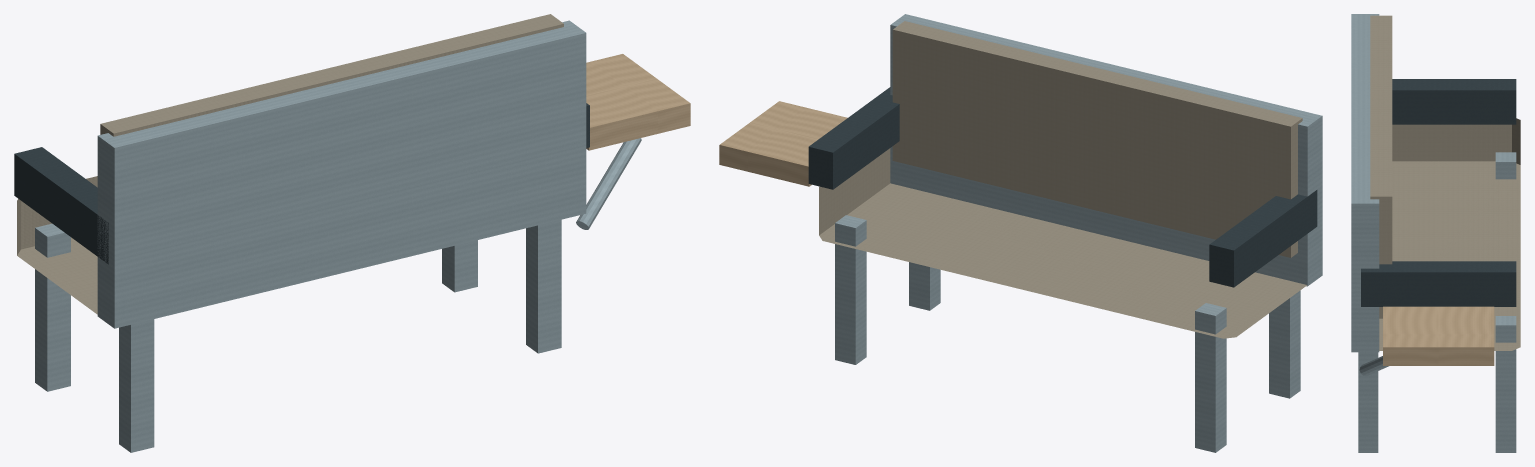
Rendered from greenhouse_observation_seat.glb.
3 renders of one model, left to right at view 1: azimuth 30°, elevation 25°; view 2: azimuth 150°, elevation 25°; view 3: azimuth 270°, elevation 25°, orthographic. The views are drawn at different scales.
Parts seen in each view (by area): view 1: Bench_Back__alloy, Bench_Frame__alloy, Back_Cushion__fabricwarm, Folding_Table__bamboo, Armrests__graphite, Seat_Cushion__fabricwarm, Table_Hinge__alloy; view 2: Back_Cushion__fabricwarm, Seat_Cushion__fabricwarm, Bench_Back__alloy, Bench_Frame__alloy, Armrests__graphite, Folding_Table__bamboo; view 3: Seat_Cushion__fabricwarm, Armrests__graphite, Bench_Back__alloy, Folding_Table__bamboo, Bench_Frame__alloy, Back_Cushion__fabricwarm, Table_Hinge__alloy.
Boxes of the visible parts, box(x1,y1,x2,y2) form: Bench_Back__alloy: box(97, 20, 586, 328); Bench_Frame__alloy: box(35, 219, 561, 452); Back_Cushion__fabricwarm: box(100, 14, 563, 136); Folding_Table__bamboo: box(586, 54, 690, 150); Armrests__graphite: box(14, 103, 589, 264); Seat_Cushion__fabricwarm: box(17, 176, 97, 314); Table_Hinge__alloy: box(576, 138, 641, 229); Back_Cushion__fabricwarm: box(892, 21, 1302, 257); Seat_Cushion__fabricwarm: box(819, 148, 1307, 338); Bench_Back__alloy: box(890, 14, 1322, 286); Bench_Frame__alloy: box(835, 215, 1300, 452); Armrests__graphite: box(808, 87, 1317, 287); Folding_Table__bamboo: box(719, 101, 847, 186); Seat_Cushion__fabricwarm: box(1379, 118, 1520, 350); Armrests__graphite: box(1361, 79, 1516, 306); Bench_Back__alloy: box(1351, 14, 1379, 352); Folding_Table__bamboo: box(1383, 306, 1494, 365); Bench_Frame__alloy: box(1358, 152, 1516, 452); Back_Cushion__fabricwarm: box(1370, 15, 1392, 318); Table_Hinge__alloy: box(1359, 356, 1388, 375).
Bounding box in the file's own units: 1.93 × 0.98 × 0.5775.
4 materials, 4 textured.
